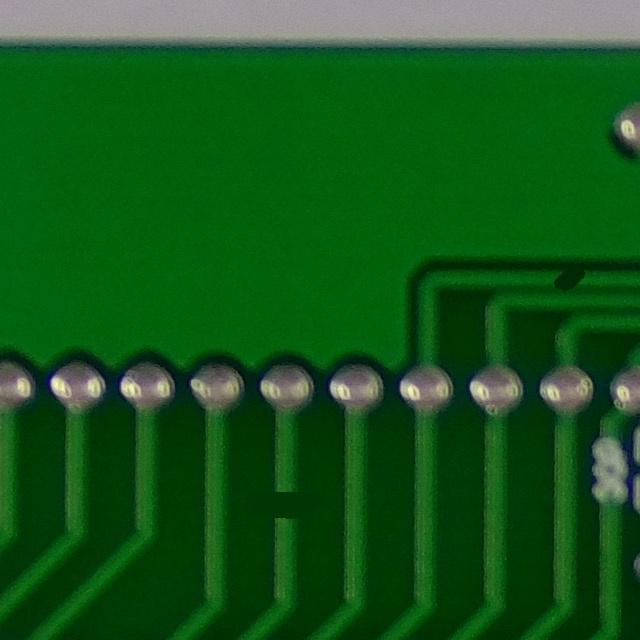open_circuit: (264, 487, 307, 530), (542, 262, 594, 293)
